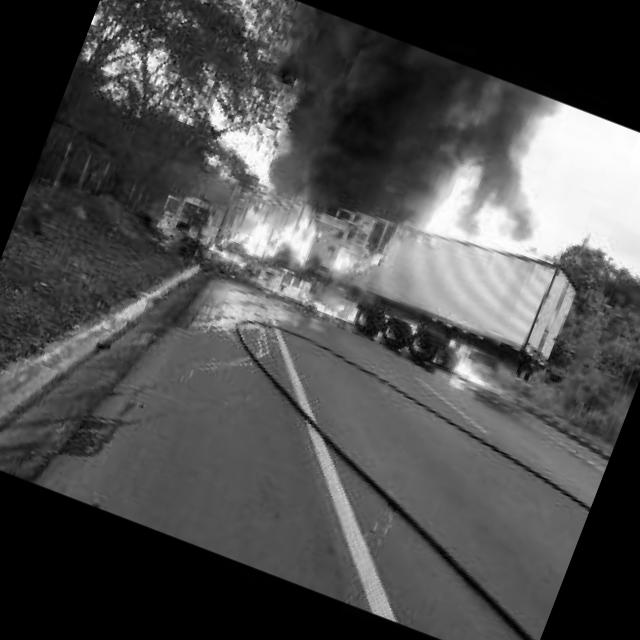fire: (421, 156, 529, 260), (222, 196, 324, 276), (280, 275, 358, 323), (446, 344, 494, 386), (331, 246, 360, 275), (208, 245, 230, 259), (368, 250, 384, 268)
smoke: (232, 7, 514, 247)
